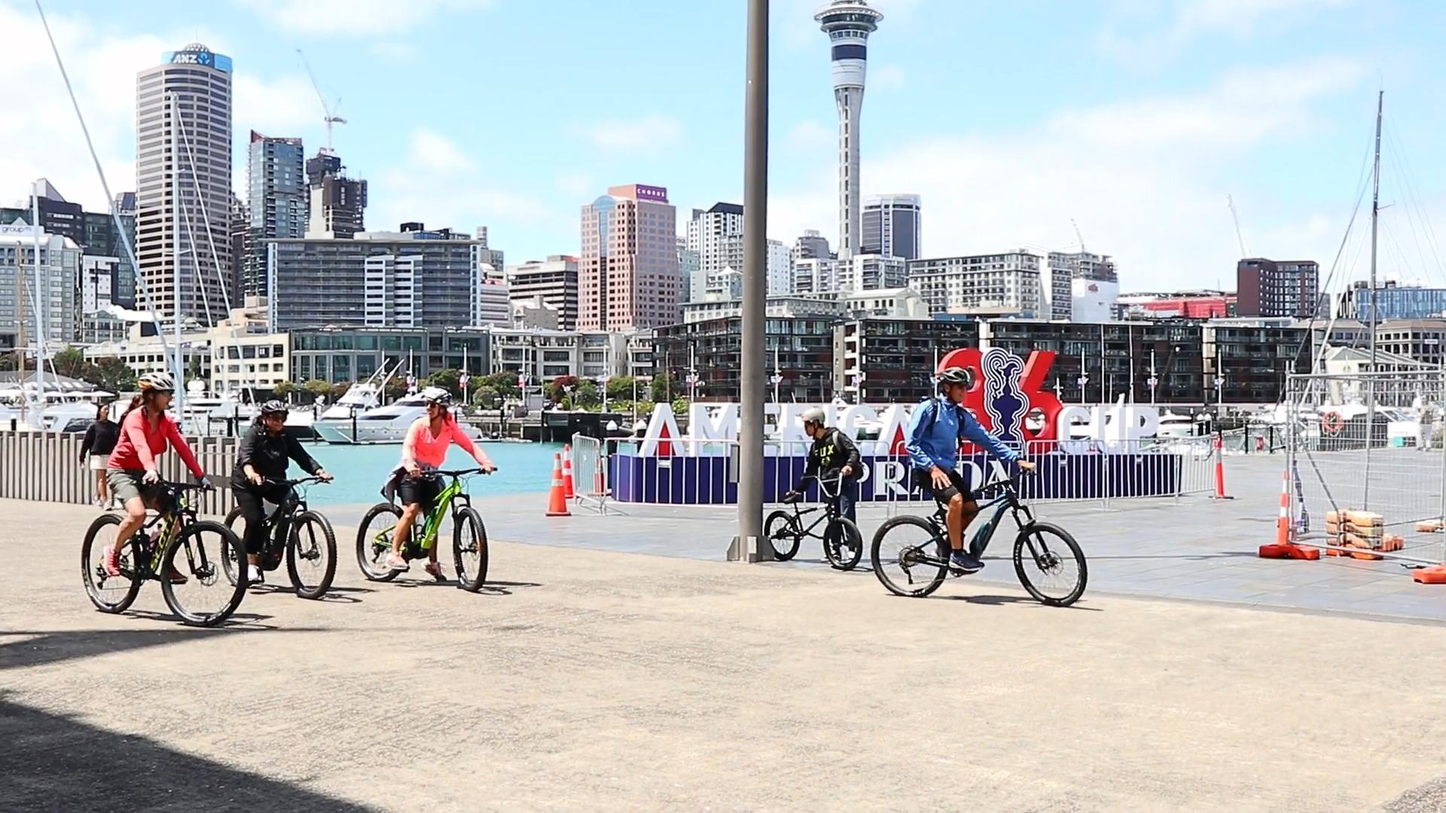bicyclist: (871, 366, 1088, 608), (82, 371, 248, 626), (356, 388, 498, 592), (218, 399, 338, 600)
helmet: (138, 373, 176, 410), (939, 366, 971, 404), (261, 400, 289, 433), (425, 388, 452, 422), (801, 408, 825, 440)
